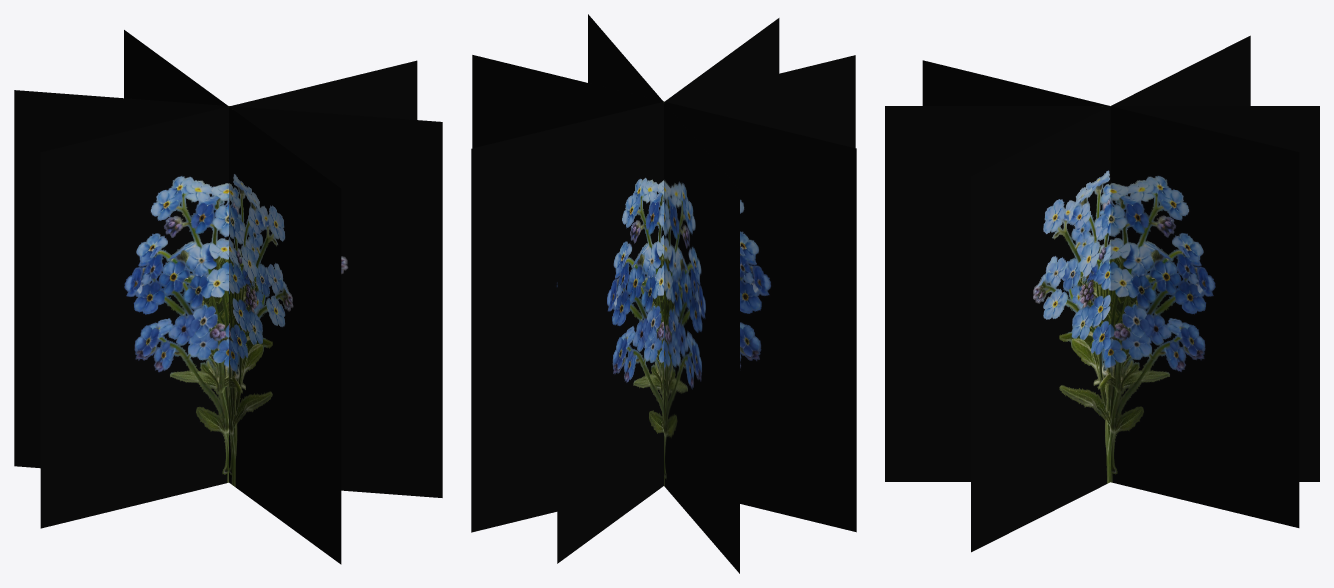
The model's file is flowers_lowpoly.glb.
The picture shows the model from 3 angles, left to right: view 1: azimuth 30°, elevation 25°; view 2: azimuth 150°, elevation 25°; view 3: azimuth 270°, elevation 25°; orthographic projection. The views are drawn at different scales.
Visible parts, largest first — view 1: Flowers; view 2: Flowers; view 3: Flowers.
Boxes of the visible parts, left/top/right/bottom form: Flowers: left=14, top=30, right=442, bottom=564; Flowers: left=471, top=14, right=856, bottom=573; Flowers: left=885, top=35, right=1319, bottom=552.
Size of the model in its own units: 1.36 by 1.3 by 1.36.
1 material, 1 textured.
